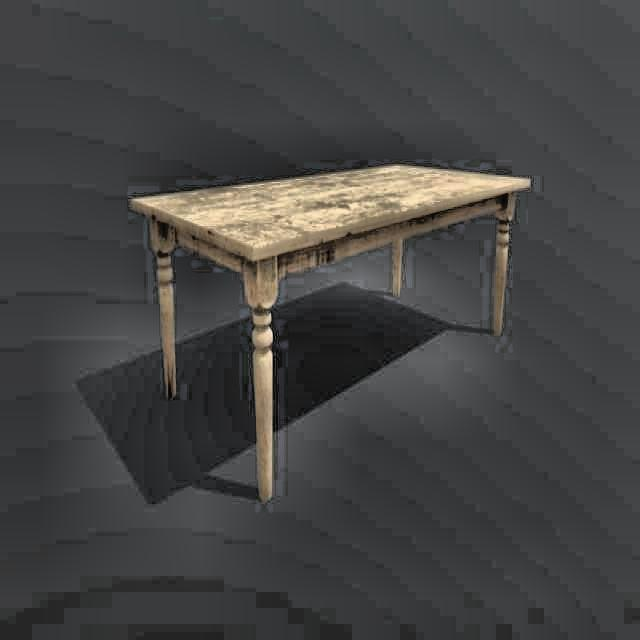mesa: (130, 161, 530, 501)
